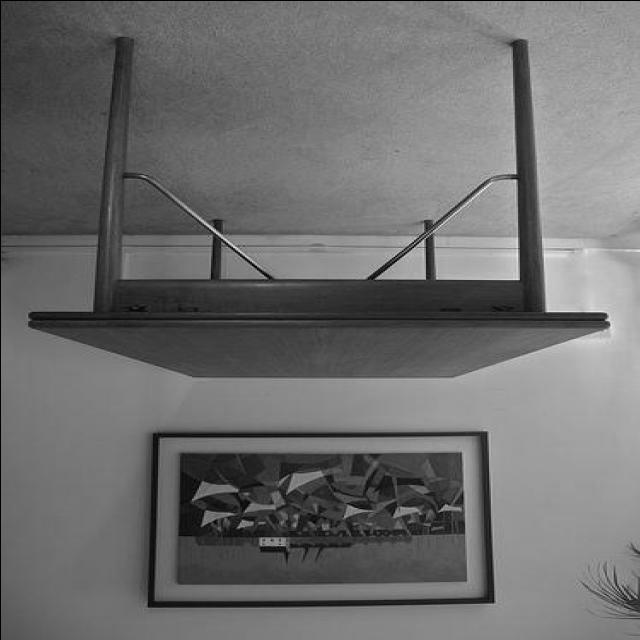table: (33, 38, 609, 378)
